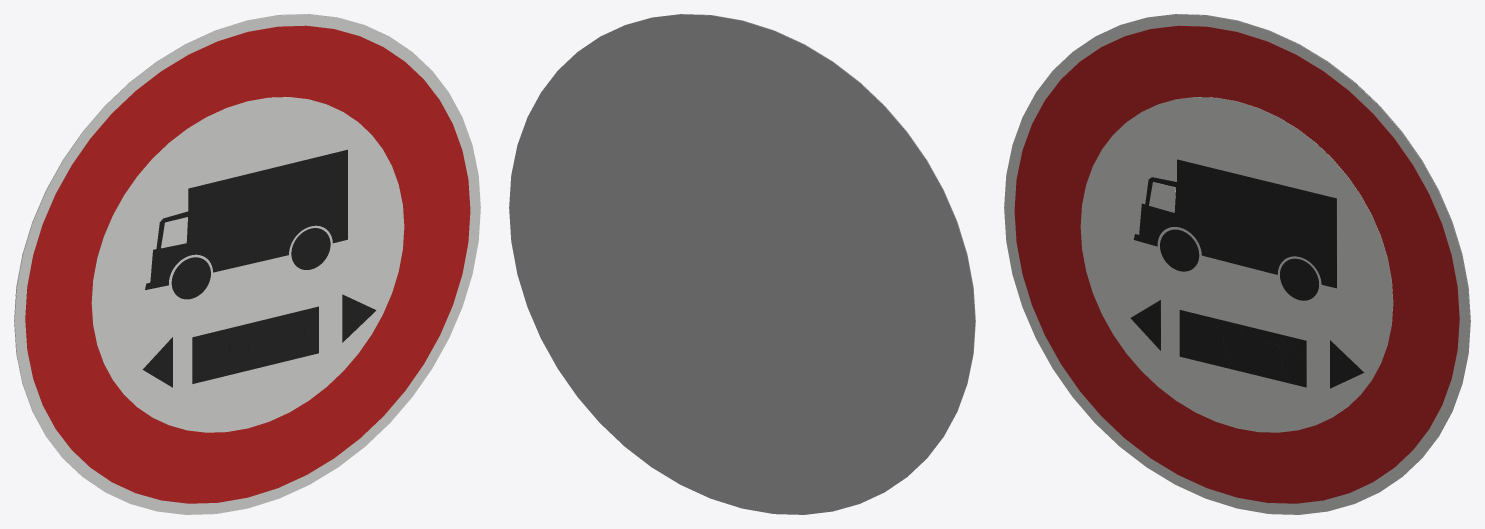
3 renders of one model, left to right at view 1: azimuth 30°, elevation 25°; view 2: azimuth 150°, elevation 25°; view 3: azimuth 330°, elevation 25°, orthographic.
Visible parts, largest first — view 1: B10a_p01, B10a_p02, B10a_p00, B10a_p03, B10a_p08, B10a_p07, B10a_p05, B10a_p04, B10a_dos, B10a_p06, B10a_p10, B10a_p11; view 2: B10a_dos, B10a_p00; view 3: B10a_p01, B10a_p02, B10a_p00, B10a_p03, B10a_p08, B10a_p07, B10a_p05, B10a_p04, B10a_dos, B10a_p10, B10a_p06, B10a_p11.
Boxes of the visible parts, x1=… form: B10a_p01: x1=25, y1=25, x2=470, y2=503; B10a_p02: x1=91, y1=97, x2=404, y2=432; B10a_p00: x1=14, y1=14, x2=480, y2=514; B10a_p03: x1=145, y1=149, x2=347, y2=289; B10a_p08: x1=192, y1=306, x2=318, y2=383; B10a_p07: x1=142, y1=294, x2=376, y2=387; B10a_p05: x1=171, y1=257, x2=210, y2=299; B10a_p04: x1=291, y1=228, x2=330, y2=269; B10a_dos: x1=14, y1=14, x2=385, y2=473; B10a_p06: x1=161, y1=217, x2=187, y2=248; B10a_p10: x1=229, y1=325, x2=255, y2=363; B10a_p11: x1=275, y1=321, x2=310, y2=354; B10a_dos: x1=509, y1=14, x2=975, y2=514; B10a_p00: x1=604, y1=14, x2=975, y2=473; B10a_p01: x1=1014, y1=25, x2=1459, y2=503; B10a_p02: x1=1080, y1=97, x2=1393, y2=432; B10a_p00: x1=1004, y1=14, x2=1470, y2=514; B10a_p03: x1=1133, y1=159, x2=1336, y2=288; B10a_p08: x1=1179, y1=310, x2=1306, y2=387; B10a_p07: x1=1130, y1=300, x2=1364, y2=388; B10a_p05: x1=1160, y1=229, x2=1199, y2=271; B10a_p04: x1=1280, y1=258, x2=1318, y2=300; B10a_dos: x1=1099, y1=14, x2=1470, y2=473; B10a_p10: x1=1216, y1=321, x2=1242, y2=360; B10a_p06: x1=1149, y1=182, x2=1175, y2=212; B10a_p11: x1=1262, y1=341, x2=1296, y2=376.
Bounding box in the file's own units: 0.85 × 0.8498 × 0.0063.
